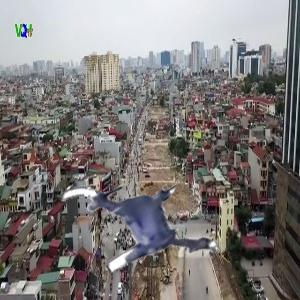drone: (59, 153, 205, 299)
